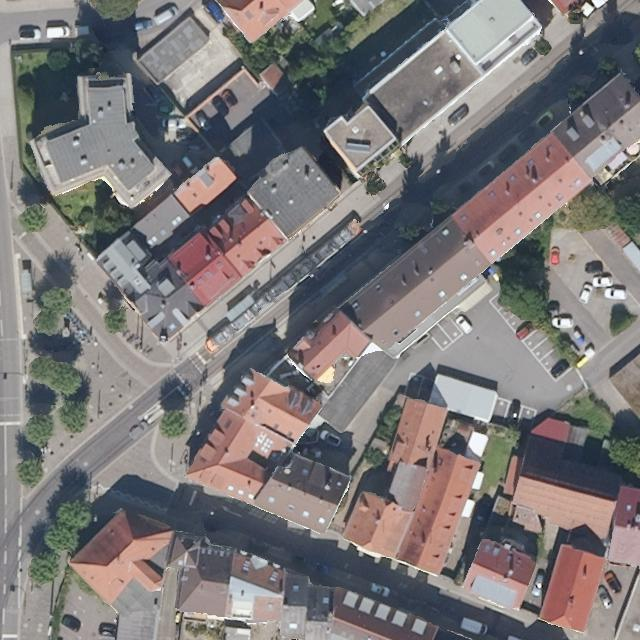PV: (343, 137, 374, 153)
